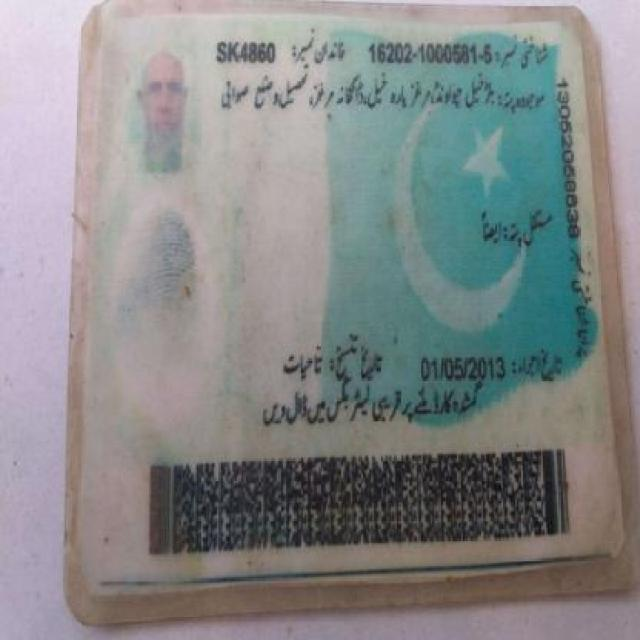Back: (70, 17, 624, 603)
